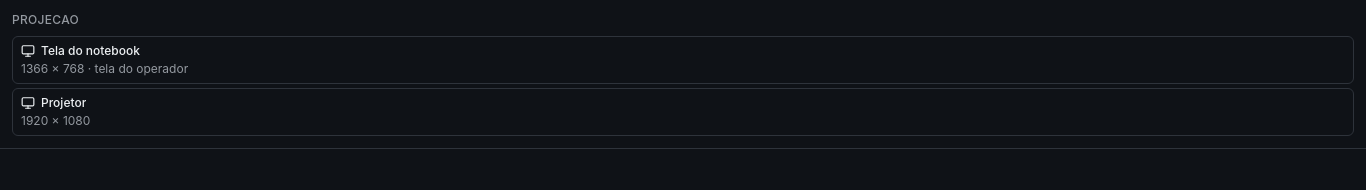
it: DisplayPicker › mostra a mensagem do nucleo quando o monitor sumiu
Click the button "Projetor 1920 × 1080" at {"x": 64, "y": 102}, box left=12, top=88, right=1354, bottom=136
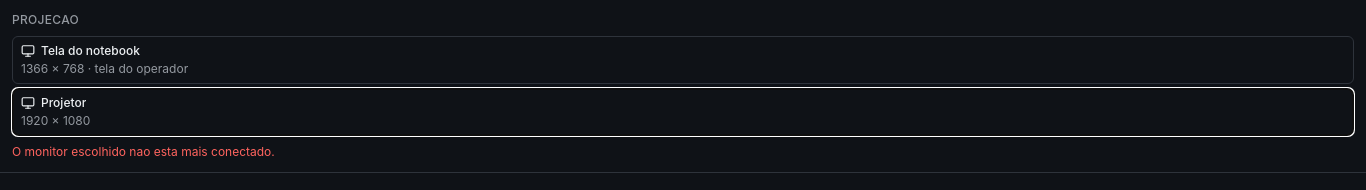
expect the message shows "nao esta mais conectado": met, box left=12, top=144, right=275, bottom=159
